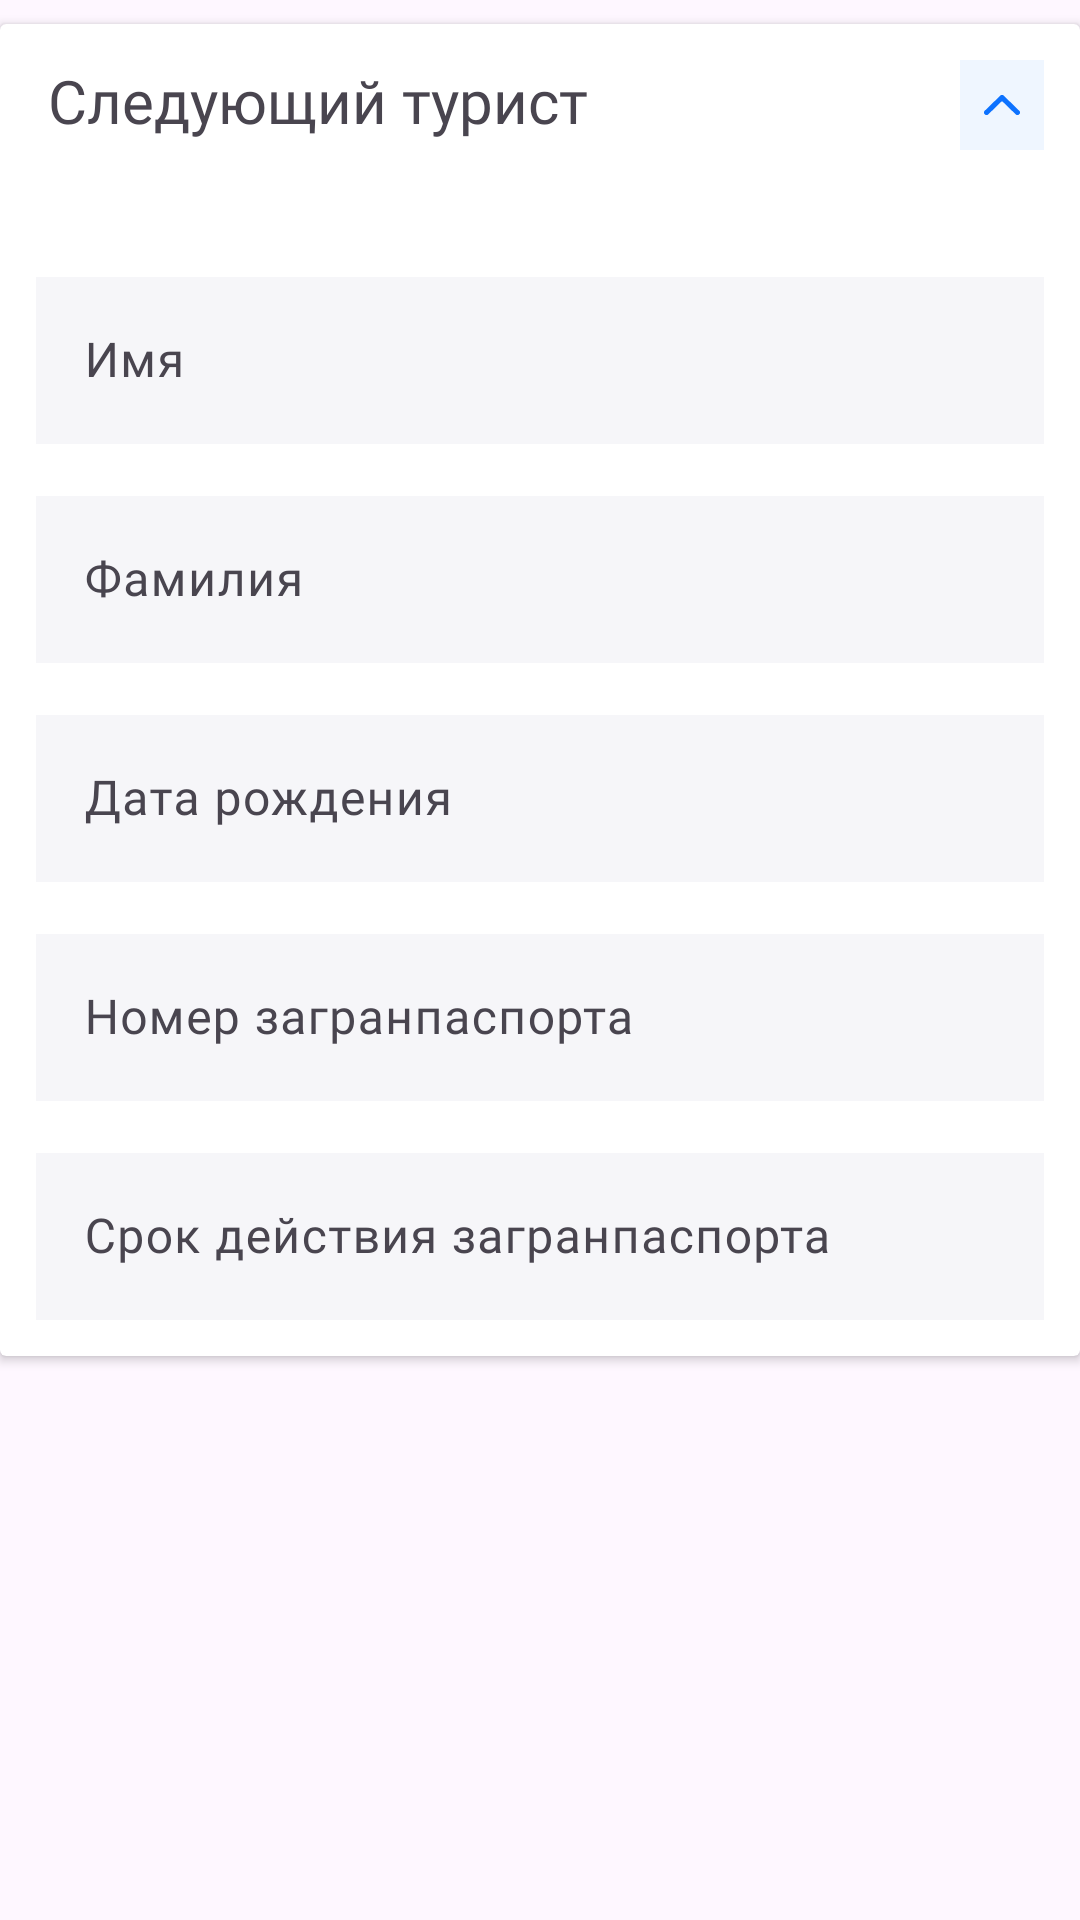

Icons on this 1080*1920 Android screen, each with its box as [x1,y1,x2,y2]:
Up arrow: [960,60,1044,150]
